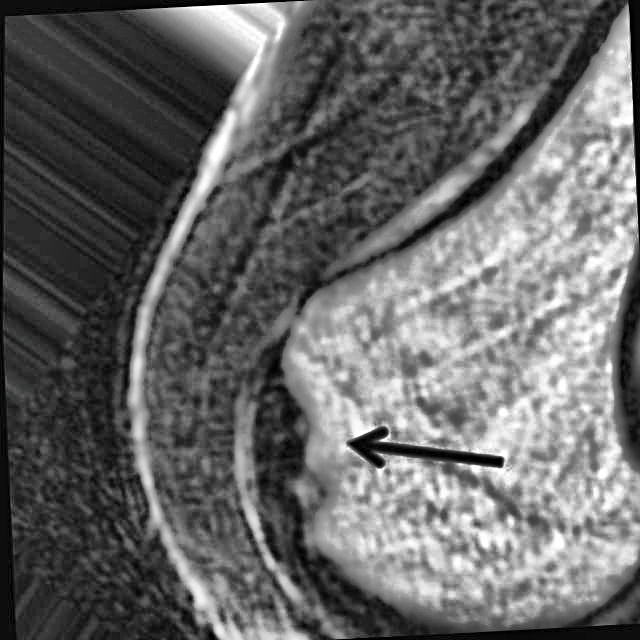Comminuted: (231, 340, 348, 562)
